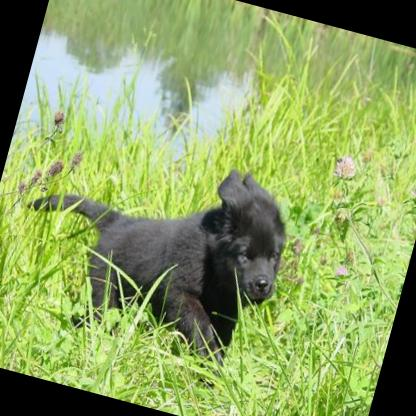Newfoundland: (0, 118, 300, 395)
